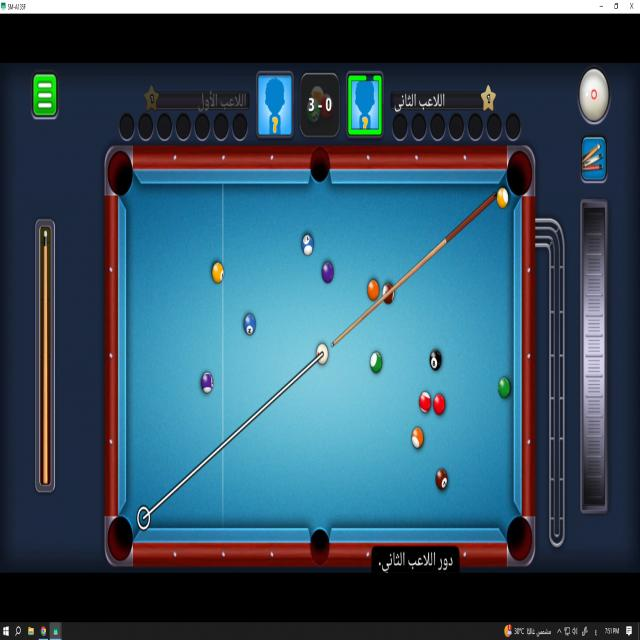object_ball: (202, 372, 214, 394), (496, 187, 508, 209), (412, 427, 424, 449), (419, 392, 431, 413), (212, 262, 223, 283), (368, 280, 379, 301), (499, 377, 510, 398), (244, 314, 255, 335), (322, 262, 333, 283), (370, 352, 381, 373), (302, 235, 313, 255), (436, 469, 447, 489), (430, 350, 441, 370), (434, 394, 444, 414), (385, 292, 394, 303)
white_cue_ball: (317, 344, 328, 365)
